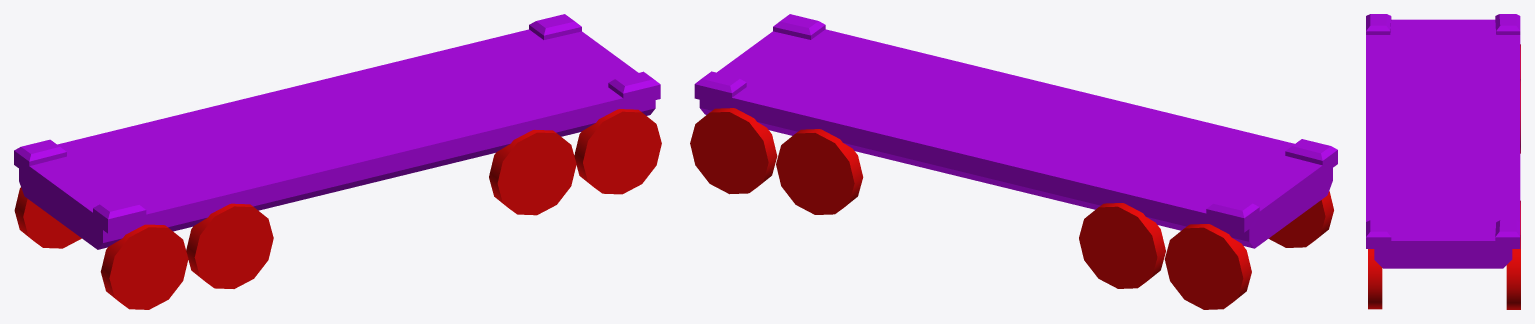
File: TrainFlatbedMesh.fbx
3 views of the same model, side by side, from view 1: azimuth 30°, elevation 25°; view 2: azimuth 150°, elevation 25°; view 3: azimuth 270°, elevation 25° (orthographic). The views are drawn at different scales.
Parts seen in each view (by area): view 1: TRAIN_Flatbed, TrainWheels34, TrainWheels33, TrainWheels35, TrainWheels32, TrainWheels39; view 2: TRAIN_Flatbed, TrainWheels36, TrainWheels39, TrainWheels37, TrainWheels38, TrainWheels34; view 3: TRAIN_Flatbed, TrainWheels36, TrainWheels33.
Boxes of the visible parts, x1=… form: TRAIN_Flatbed: x1=14, y1=14, x2=660, y2=249; TrainWheels34: x1=100, y1=224, x2=188, y2=309; TrainWheels33: x1=574, y1=109, x2=661, y2=194; TrainWheels35: x1=186, y1=203, x2=273, y2=288; TrainWheels32: x1=489, y1=129, x2=576, y2=215; TrainWheels39: x1=14, y1=187, x2=81, y2=248; TRAIN_Flatbed: x1=694, y1=14, x2=1337, y2=248; TrainWheels36: x1=690, y1=108, x2=777, y2=194; TrainWheels39: x1=1164, y1=224, x2=1251, y2=309; TrainWheels37: x1=776, y1=129, x2=863, y2=214; TrainWheels38: x1=1079, y1=203, x2=1165, y2=288; TrainWheels34: x1=1268, y1=191, x2=1333, y2=247; TRAIN_Flatbed: x1=1366, y1=14, x2=1520, y2=268; TrainWheels36: x1=1506, y1=235, x2=1520, y2=309; TrainWheels33: x1=1368, y1=249, x2=1382, y2=309.
Size of the model in its own units: 0.8318 by 0.1518 by 0.244.
